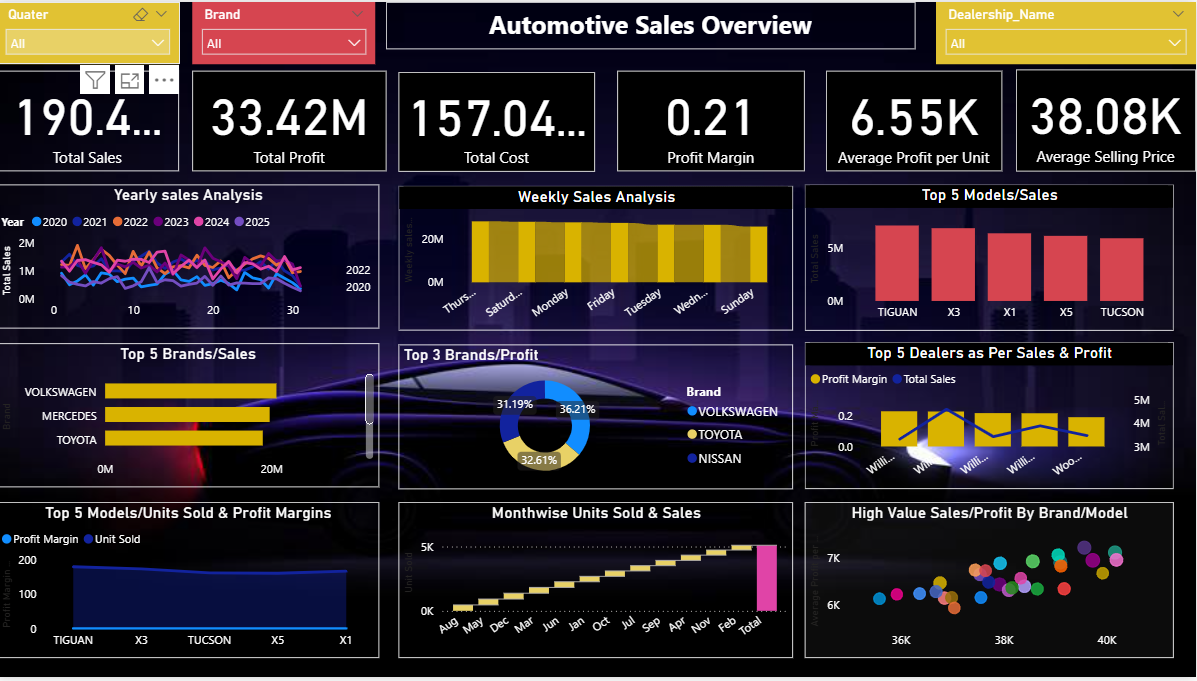

Layout of this report page (visuals, bound fields, positions):
{"tool":"powerbi","page":{"name":"Page 1","canvas":[1280,720],"ordinal":0},"visuals":[{"type":"textbox","box":[416.2,0,564.6,50.7],"z":0},{"type":"card","fields":{"Values":["Sales.Total Sales"]},"box":[0,73.6,195.4,107.4],"z":1000},{"type":"card","fields":{"Values":["Sales.Total Profit"]},"box":[208.7,73.6,207.5,107.4],"z":2000},{"type":"card","fields":{"Values":["Sales.Total Cost"]},"box":[429.5,74.8,209.9,106.2],"z":3000},{"type":"card","fields":{"Values":["Sales.Profit Margin"]},"box":[662.3,73.6,200.3,107.4],"z":4000},{"type":"card","fields":{"Values":["Sales.Average Profit per Unit"]},"box":[885.5,73.6,188.2,107.4],"z":5000},{"type":"card","fields":{"Values":["Sales.Average Selling Price"]},"box":[1088.2,72.4,191.8,108.6],"z":6000},{"type":"slicer","fields":{"Values":["DimDate.Quater"]},"box":[0,0,195.4,66.4],"z":7000},{"type":"slicer","fields":{"Values":["Sales.Brand"]},"box":[208.7,0,195.4,66.4],"z":8000},{"type":"slicer","fields":{"Values":["DimDelarship.Dealership_Name"]},"box":[1002.6,0,277.5,66.4],"z":9000},{"type":"ribbonChart","title":"Weekly Sales Analysis","fields":{"Y":["Sales.Total Sales"],"Category":["DimDate.Weekday"]},"box":[429.5,195.4,421,154.4],"z":9002},{"type":"columnChart","title":"Top 5 Models/Sales","fields":{"Category":["DimCars.Model"],"Y":["Sales.Total Sales"]},"box":[862.6,194.2,393.3,155.6],"z":9003},{"type":"barChart","title":"Top 5 Brands/Sales","fields":{"Y":["Sales.Total Sales"],"Category":["DimCars.Brand"]},"box":[0,363.6,408.9,153.7],"z":9004},{"type":"donutChart","title":"Top 3 Brands/Profit","fields":{"Category":["DimCars.Brand"],"Y":["Sales.Total Profit"]},"box":[429.5,365.6,421,154.4],"z":9005},{"type":"lineClusteredColumnComboChart","title":"Top 5 Dealers as Per Sales & Profit","fields":{"Category":["DimDelarship.Dealership_Name"],"Y":["Sales.Profit Margin"],"Y2":["Sales.Total Sales"]},"box":[862.6,363.1,393.3,156.8],"z":9006},{"type":"stackedAreaChart","title":"Top 5 Models/Units Sold & Profit Margins","fields":{"Category":["DimCars.Model"],"Y":["Sales.Profit Margin","Sales.Unit Sold"]},"box":[0,533.2,409,166.5],"z":9007},{"type":"lineChart","title":"Yearly sales Analysis","fields":{"Y":["Sales.Total Sales"],"Series":["DimDate.Year"],"Category":["DimDate.Date.Variation.Date Hierarchy.Day"]},"box":[0,194.2,409,153.2],"z":9008},{"type":"waterfallChart","title":"Monthwise Units Sold & Sales","fields":{"Category":["DimDate.MONTH"],"Y":["Sales.Unit Sold"]},"box":[429.5,533.2,421,166.5],"z":9009},{"type":"scatterChart","title":"High Value Sales/Profit By Brand/Model","fields":{"Series":["DimCars.Model"],"Category":["DimCars.Brand"],"X":["Sales.Average Selling Price"],"Y":["Sales.Average Profit per Unit"],"Size":["Sales.High Value Sales"]},"box":[862.6,533.2,393.3,166.5],"z":9010}]}

Visuals, with their boxes in screenshot pixels (x1, y1, x2, y2), scaled from the page's 1280x720 canvas onto the 1197x681 screenshot:
textbox: 389 0 917 48
card - Sales.Total Sales: 0 70 183 171
card - Sales.Total Profit: 195 70 389 171
card - Sales.Total Cost: 402 71 598 171
card - Sales.Profit Margin: 619 70 807 171
card - Sales.Average Profit per Unit: 828 70 1004 171
card - Sales.Average Selling Price: 1018 68 1196 171
slicer - DimDate.Quater: 0 0 183 63
slicer - Sales.Brand: 195 0 378 63
slicer - DimDelarship.Dealership_Name: 938 0 1196 63
"Weekly Sales Analysis" ribbonChart: 402 185 795 331
"Top 5 Models/Sales" columnChart: 807 184 1174 331
"Top 5 Brands/Sales" barChart: 0 344 382 489
"Top 3 Brands/Profit" donutChart: 402 346 795 492
"Top 5 Dealers as Per Sales & Profit" lineClusteredColumnComboChart: 807 343 1174 492
"Top 5 Models/Units Sold & Profit Margins" stackedAreaChart: 0 504 382 662
"Yearly sales Analysis" lineChart: 0 184 382 329
"Monthwise Units Sold & Sales" waterfallChart: 402 504 795 662
"High Value Sales/Profit By Brand/Model" scatterChart: 807 504 1174 662
